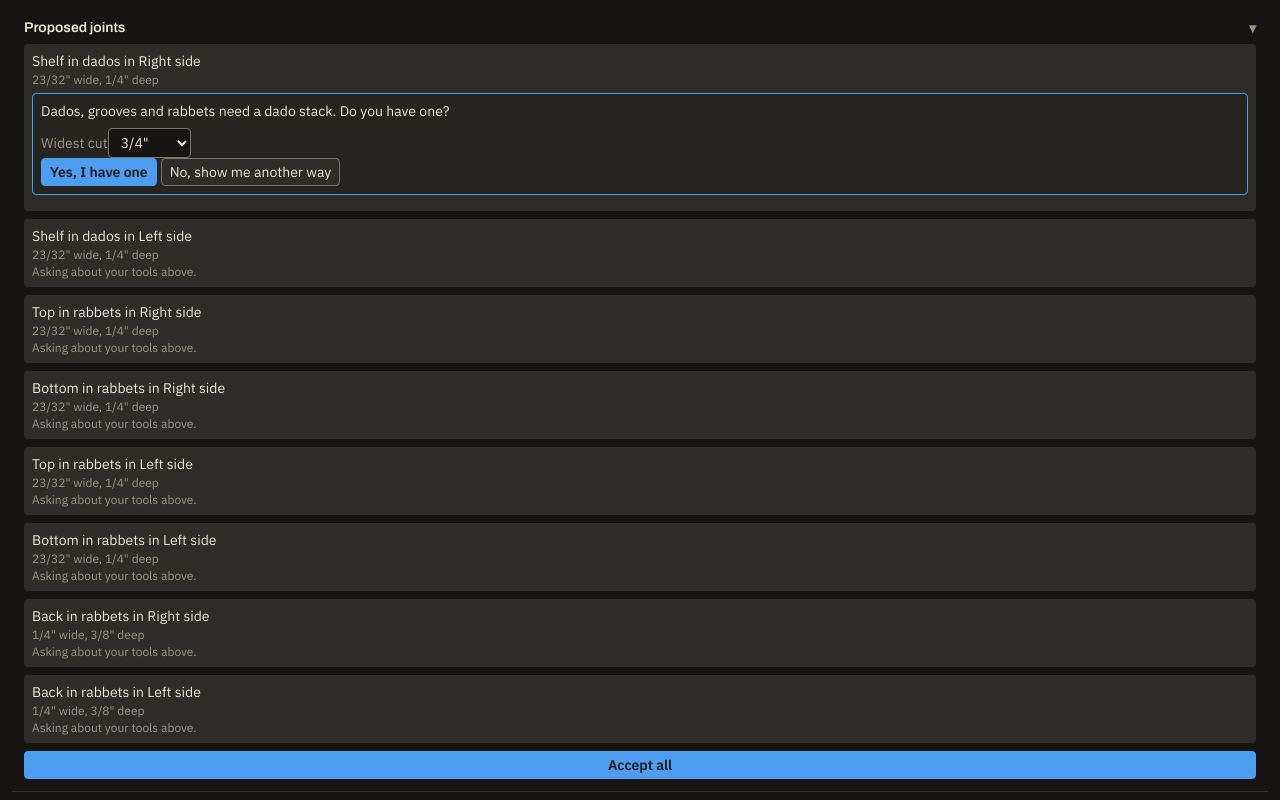
Test: the Joinery step › accepts all, then says so
The image size is (1280, 800).
Click the button "Accept all" at (640, 765), box [24, 751, 1256, 779]
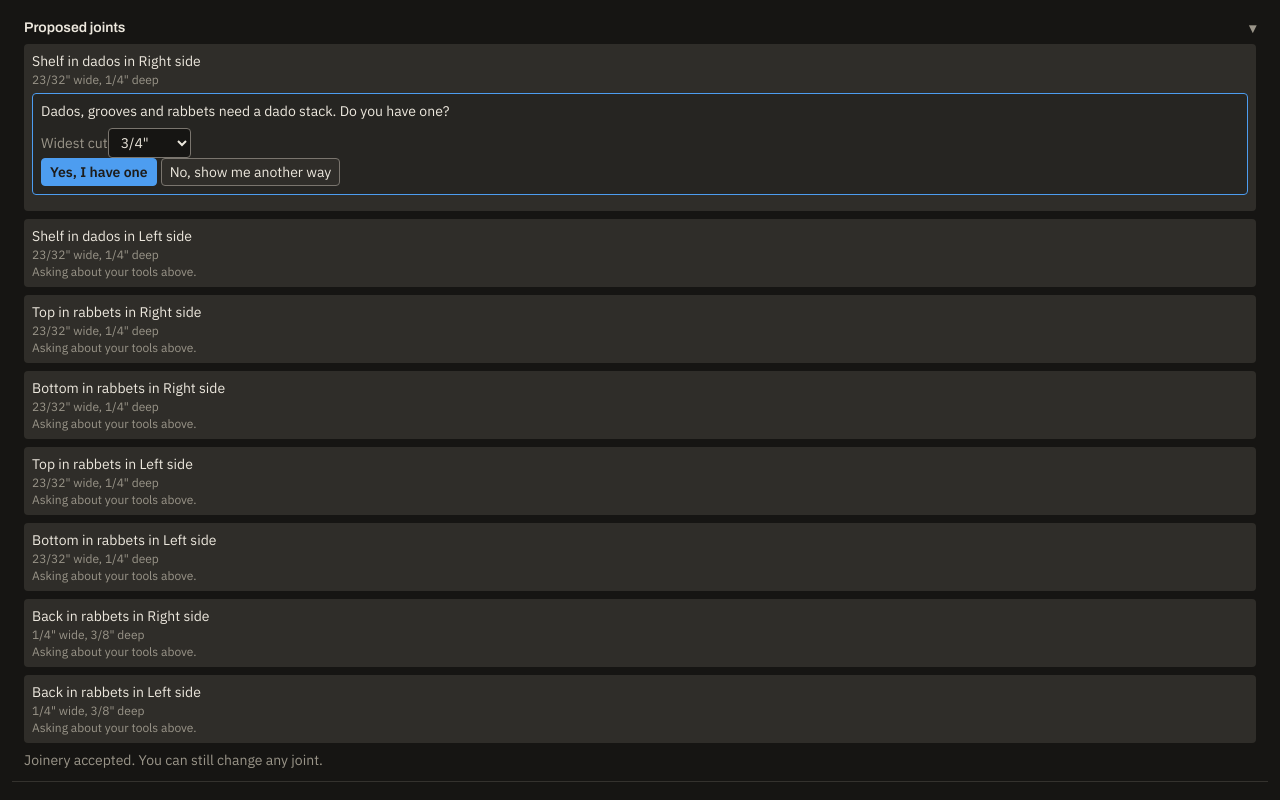
Check: the text "Joinery accepted. You can still change any joint." is shown, box [24, 751, 323, 769]
